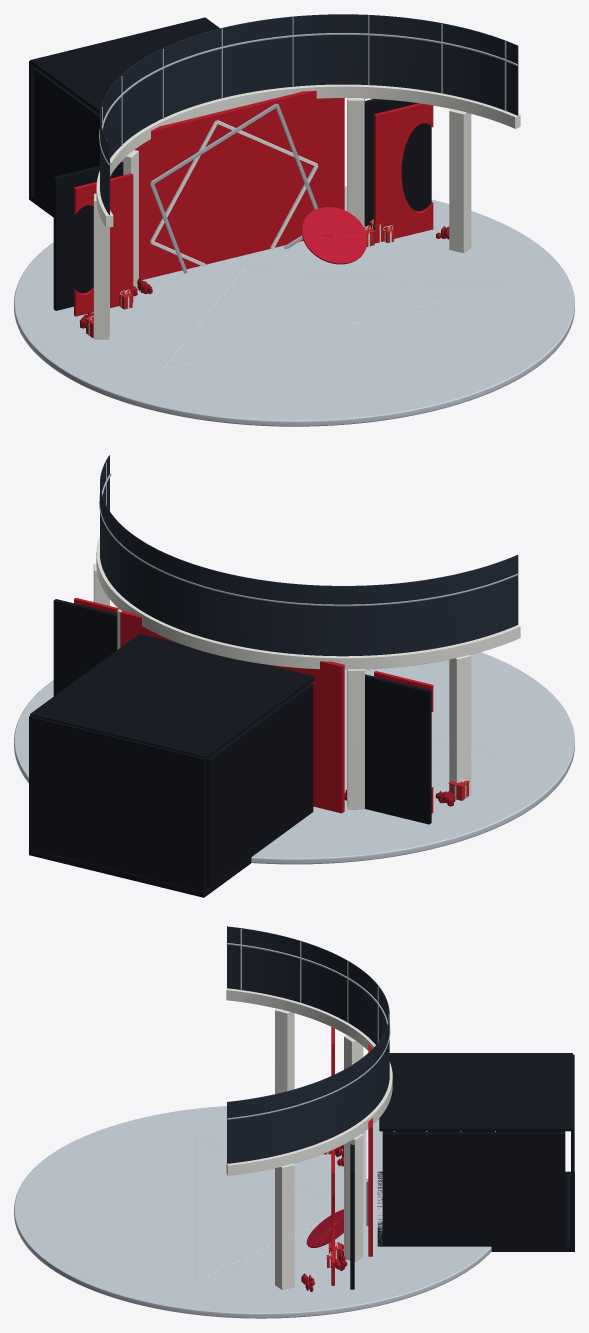
Rendered from R03_twistframe_hall.glb.
3 renders of one model, top to bottom at view 1: azimuth 30°, elevation 25°; view 2: azimuth 150°, elevation 25°; view 3: azimuth 270°, elevation 25°, orthographic. The views are drawn at different scales.
Visible parts, largest first — view 1: finite pale stage slab, upper curved dark glazing, central red facade with real opening, tunnel left return, white curved upper fascia, tunnel upper dark return, right red screen, left dark bay return, left red screen, right dark bay return, white pier +59, tilted crimson circular disc (+7 smaller); view 2: upper curved dark glazing, finite pale stage slab, tunnel distant dark stop, tunnel upper dark return, tunnel left return, left dark bay return, white curved upper fascia, central red facade with real opening, right dark bay return, white pier -59, white pier -33, inferred continuous tunnel floor (+1 smaller); view 3: finite pale stage slab, tunnel right return, upper curved dark glazing, tunnel upper dark return, white curved upper fascia, white pier +59, white pier +33, white pier -59, inferred continuous tunnel floor, upper narrow glazing rail, tilted crimson circular disc, right dark bay return (+3 smaller).
Boxes of the visible parts, x1,y1,x2,y2 form: finite pale stage slab: [14, 186, 574, 426]; upper curved dark glazing: [100, 14, 518, 215]; central red facade with real opening: [135, 90, 344, 279]; tunnel left return: [34, 68, 99, 211]; white curved upper fascia: [96, 84, 520, 227]; tunnel upper dark return: [30, 17, 219, 113]; right red screen: [374, 103, 433, 243]; left dark bay return: [53, 161, 123, 310]; left red screen: [74, 173, 133, 316]; right dark bay return: [364, 99, 431, 226]; white pier +59: [449, 109, 471, 253]; tilted crimson circular disc: [301, 207, 367, 264]; upper curved dark glazing: [100, 455, 518, 656]; finite pale stage slab: [14, 652, 574, 864]; tunnel distant dark stop: [29, 715, 206, 891]; tunnel upper dark return: [30, 634, 314, 758]; tunnel left return: [206, 683, 313, 887]; left dark bay return: [365, 674, 431, 824]; white curved upper fascia: [96, 537, 520, 669]; central red facade with real opening: [120, 610, 344, 813]; right dark bay return: [53, 599, 117, 696]; white pier -59: [449, 654, 471, 795]; white pier -33: [347, 669, 364, 809]; inferred continuous tunnel floor: [29, 849, 251, 897]; finite pale stage slab: [14, 1106, 491, 1318]; tunnel right return: [382, 1132, 565, 1246]; upper curved dark glazing: [227, 926, 389, 1163]; tunnel upper dark return: [379, 1053, 572, 1131]; white curved upper fascia: [226, 988, 392, 1175]; white pier +59: [275, 1163, 294, 1289]; white pier +33: [344, 1134, 363, 1261]; white pier -59: [275, 1008, 294, 1093]; inferred continuous tunnel floor: [377, 1171, 574, 1251]; upper narrow glazing rail: [226, 943, 390, 1119]; tilted crimson circular disc: [306, 1209, 343, 1247]; right dark bay return: [350, 1144, 354, 1289].
Bounding box in the file's own units: 23 × 10.28 × 26.1.
